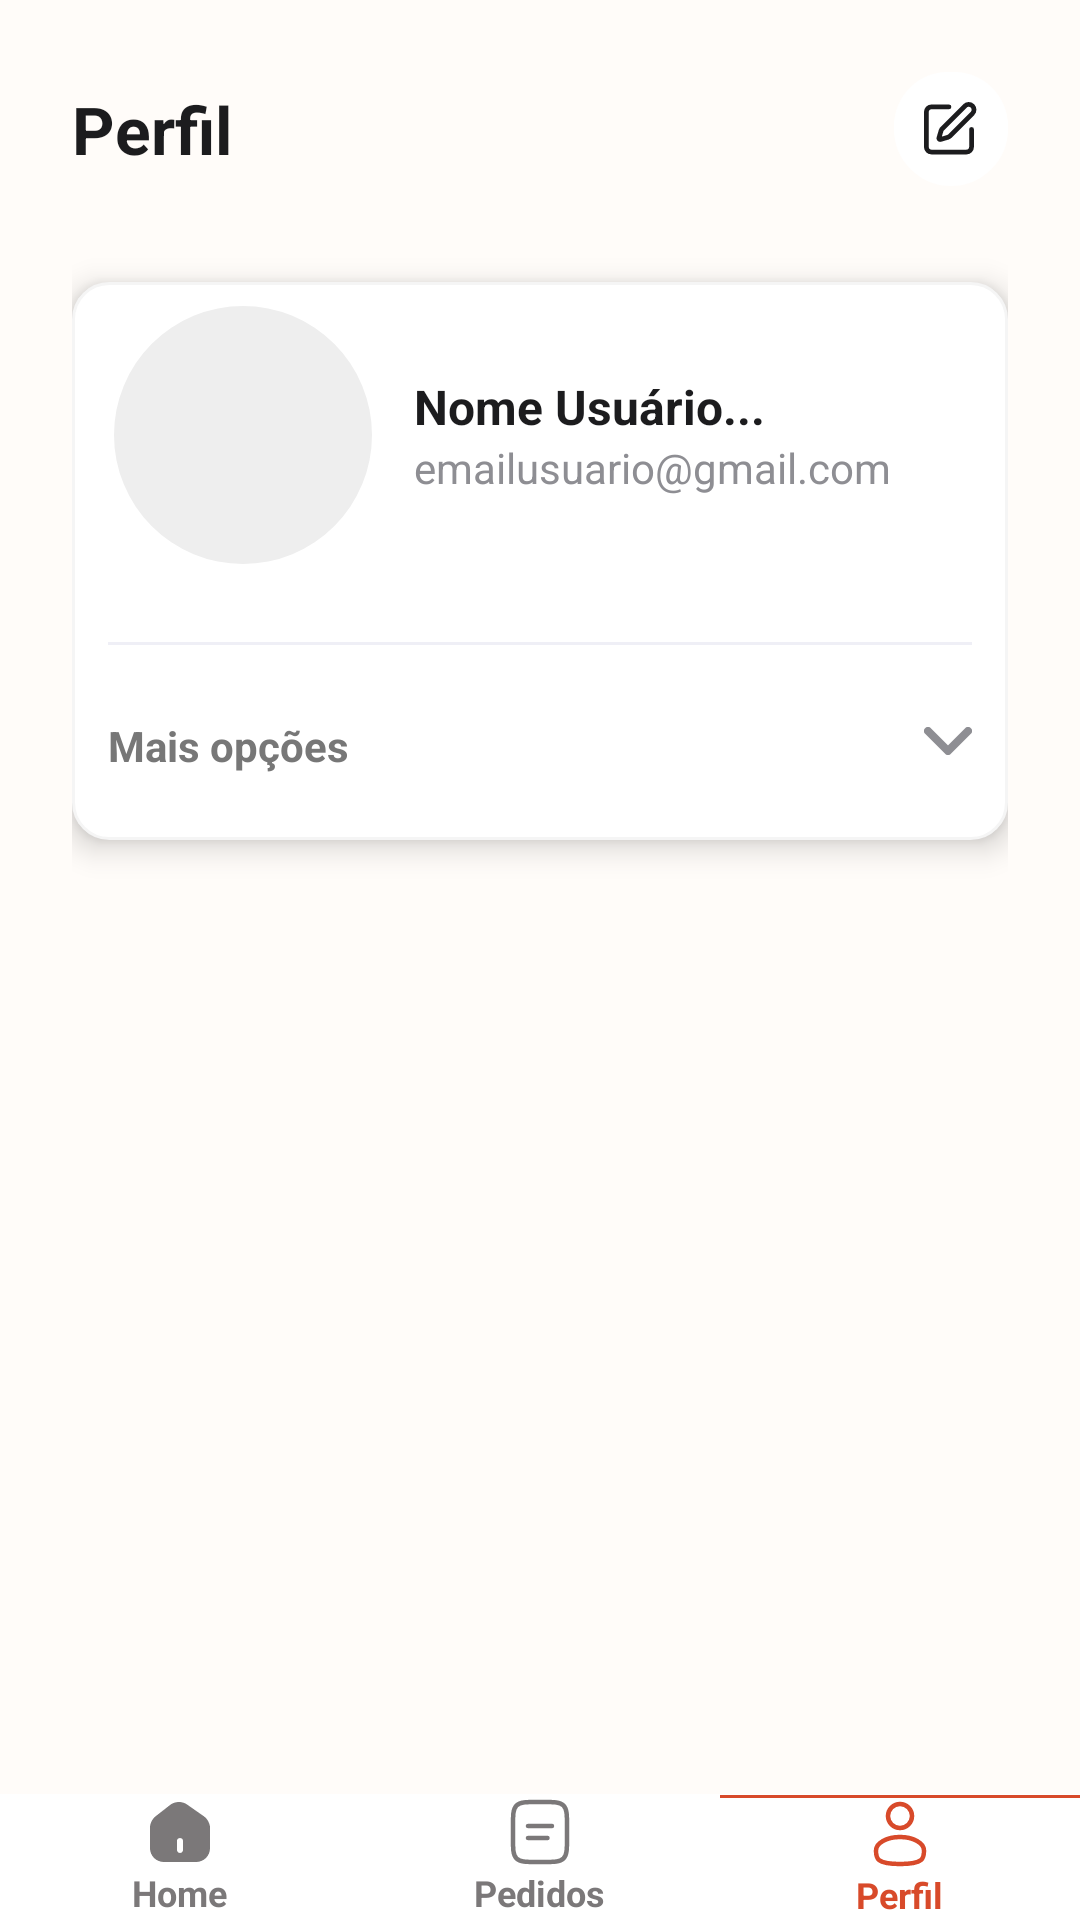

Where icons sit on this 1080px x 1920px app screen, as (x1, y1, x2, y2):
editar: (924, 102, 977, 155)
seta: (924, 727, 972, 755)
